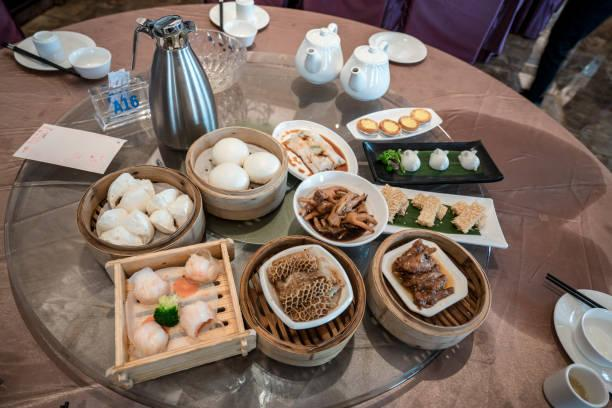Braised Crucian Carp: (110, 239, 235, 379), (239, 234, 364, 365), (364, 230, 490, 349), (76, 164, 204, 271), (185, 125, 288, 220), (378, 186, 509, 248), (292, 169, 387, 248), (361, 139, 500, 186), (272, 119, 358, 182), (346, 107, 441, 142)
